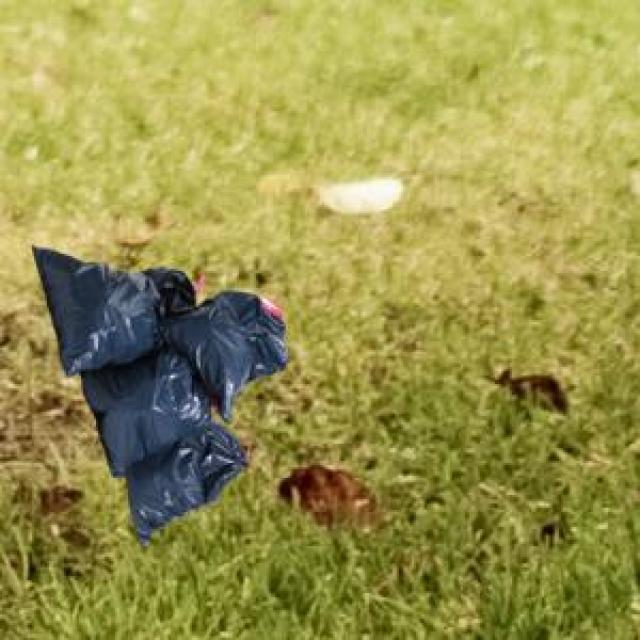Vinyl: (29, 246, 190, 351), (124, 434, 260, 544), (178, 299, 290, 417), (78, 361, 214, 450)
